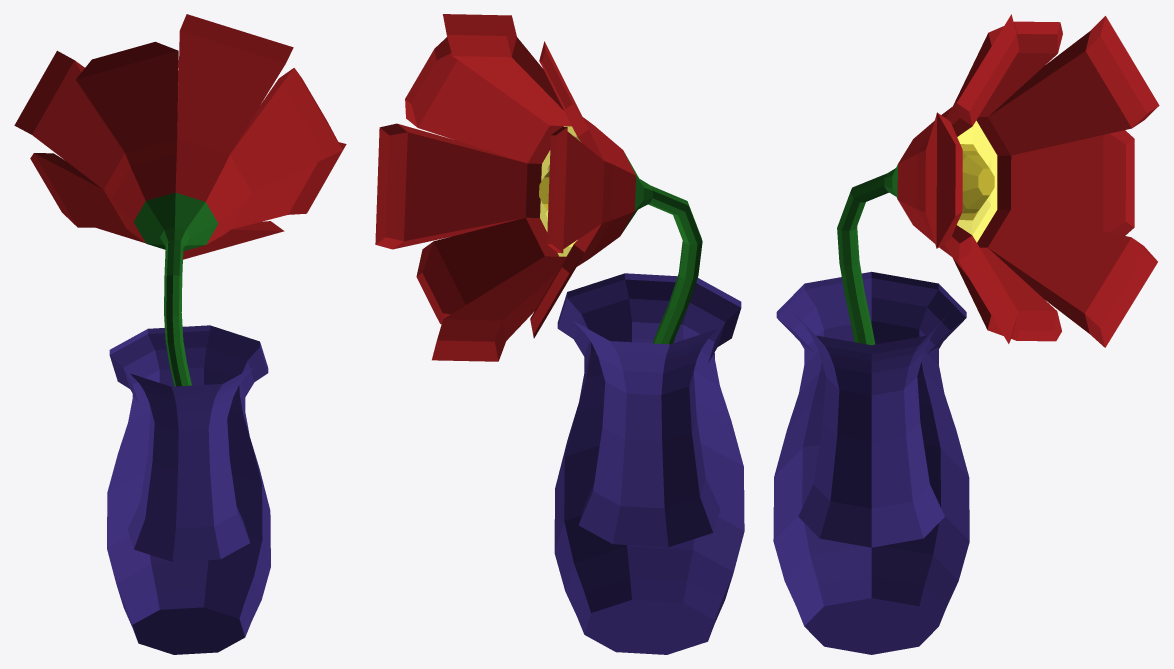
Rendered from Flower Vase.fbx.
3 renders of one model, left to right at view 1: azimuth 30°, elevation 25°; view 2: azimuth 150°, elevation 25°; view 3: azimuth 270°, elevation 25°, orthographic. The views are drawn at different scales.
Visible parts, largest first — view 1: Node 0; view 2: Node 0; view 3: Node 0.
Boxes of the visible parts, left/top/right/bottom form: Node 0: left=14, top=14, right=346, bottom=654; Node 0: left=375, top=14, right=744, bottom=654; Node 0: left=773, top=14, right=1159, bottom=654.
Size of the model in its own units: 0.3784 by 0.698 by 0.3518.
